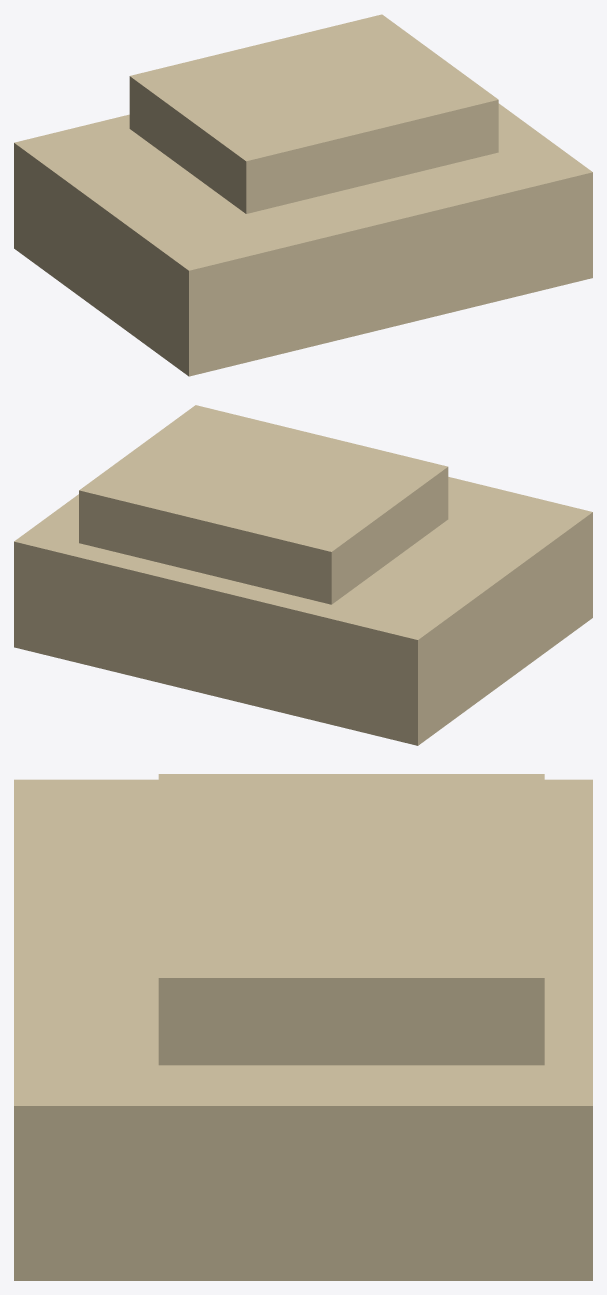
The model's file is net_pile.glb.
3 views of the same model, one above another, from view 1: azimuth 30°, elevation 25°; view 2: azimuth 150°, elevation 25°; view 3: azimuth 270°, elevation 25° (orthographic). The views are drawn at different scales.
Parts seen in each view (by area): view 1: netpile, netpile2; view 2: netpile, netpile2; view 3: netpile, netpile2.
Boxes of the visible parts, x1,y1,x2,y2 form: netpile: [14, 103, 592, 376]; netpile2: [129, 14, 498, 213]; netpile: [14, 477, 592, 745]; netpile2: [79, 405, 448, 604]; netpile: [14, 779, 592, 1280]; netpile2: [158, 774, 544, 1065].
Bounding box in the file's own units: 1.6 × 0.6001 × 1.2.
